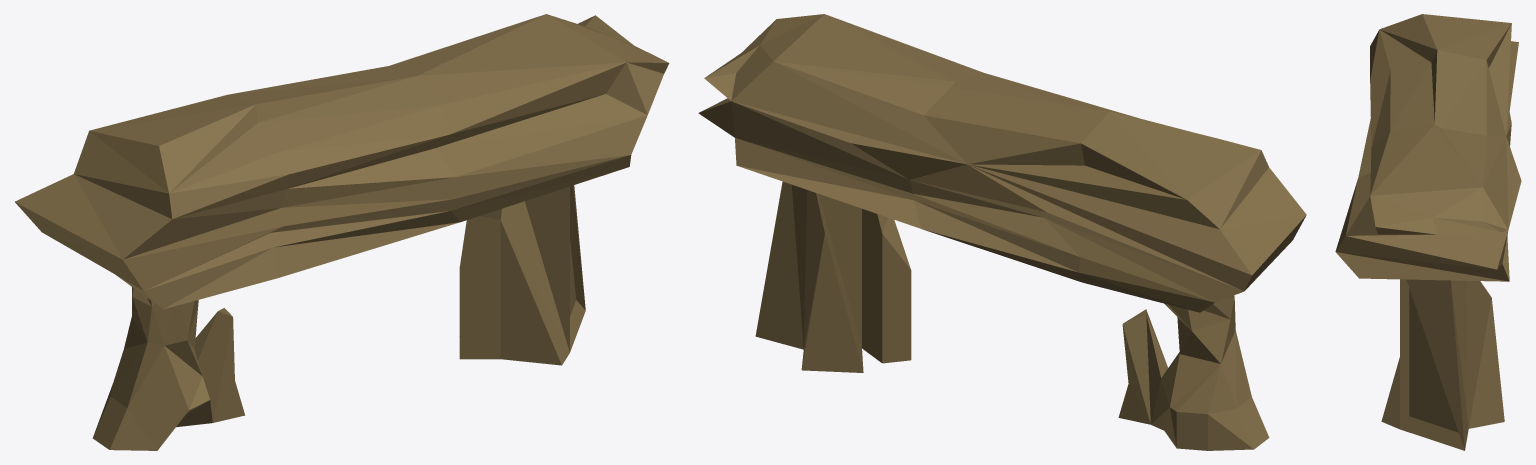
The model's file is Archway_03.fbx.
3 views of the same model, side by side, from view 1: azimuth 30°, elevation 25°; view 2: azimuth 150°, elevation 25°; view 3: azimuth 270°, elevation 25° (orthographic). The views are drawn at different scales.
Visible parts, largest first — view 1: pCylinder4; view 2: pCylinder4; view 3: pCylinder4.
Part boxes in pixels (x1=…): pCylinder4: x1=15, y1=14, x2=669, y2=450; pCylinder4: x1=698, y1=14, x2=1306, y2=450; pCylinder4: x1=1335, y1=14, x2=1521, y2=450.
Bounding box in the file's own units: 14.91 × 7.51 × 4.88.
